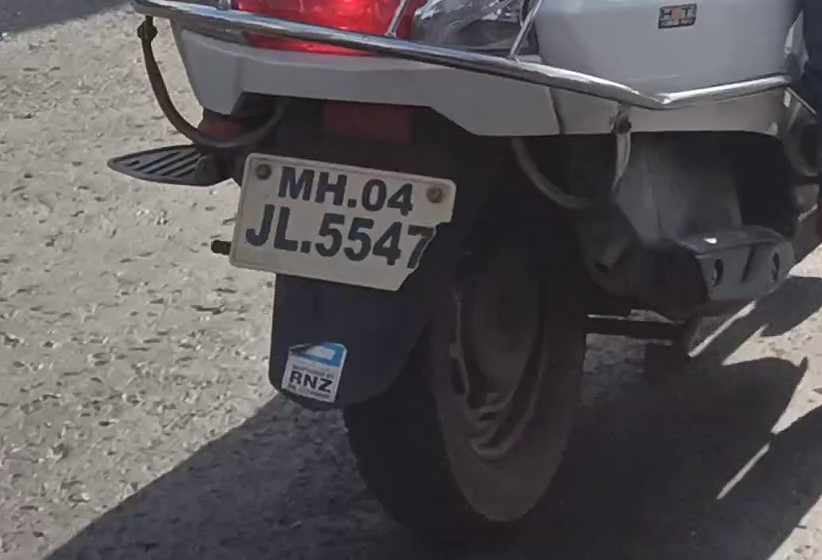MH04JL5547: (234, 158, 449, 291)
